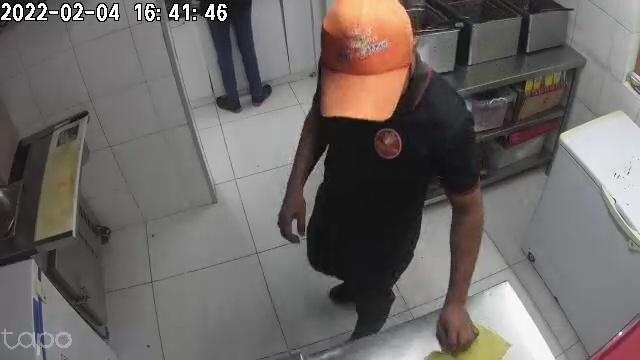no_gloves: (278, 171, 306, 245)
